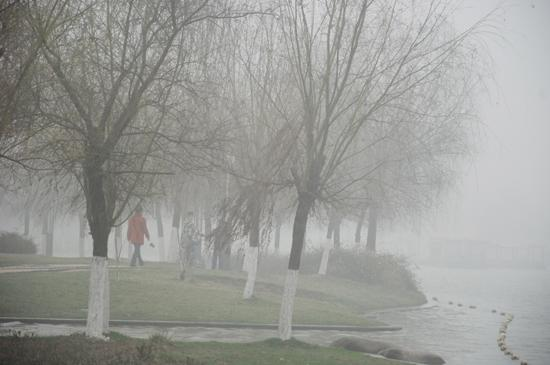bicycle: (177, 237, 204, 269)
person: (127, 206, 150, 267), (181, 212, 205, 262), (208, 220, 226, 270)
